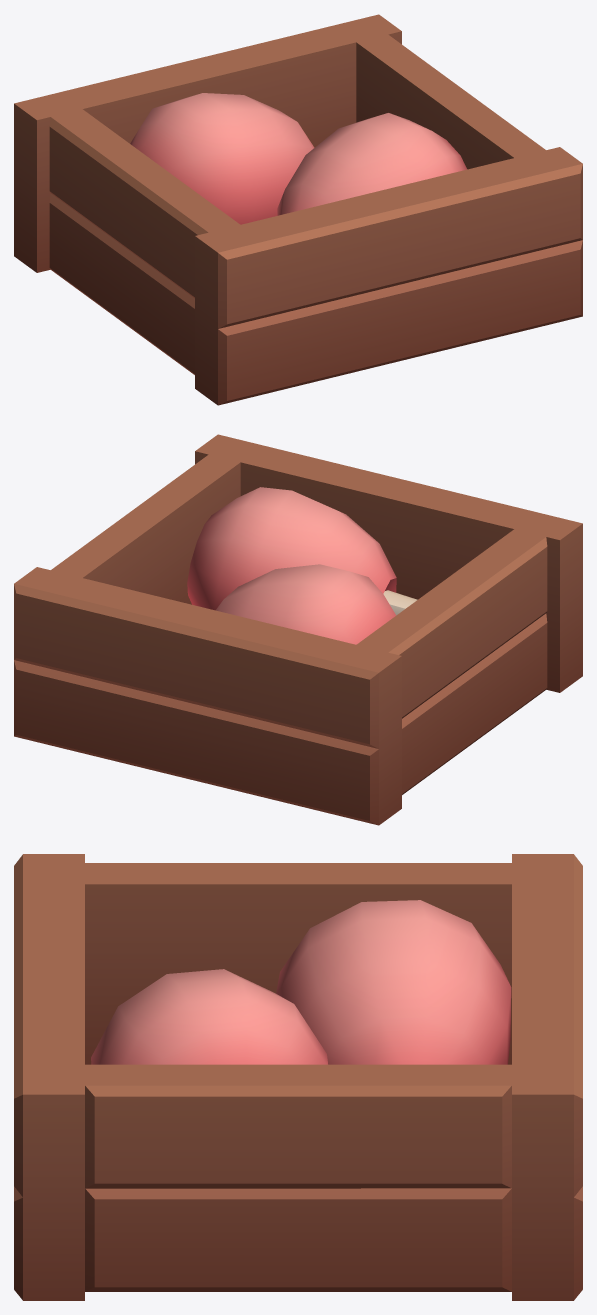
File: Crate of Ham.glb
3 renders of one model, top to bottom at view 1: azimuth 30°, elevation 25°; view 2: azimuth 150°, elevation 25°; view 3: azimuth 270°, elevation 25°, orthographic. The views are drawn at different scales.
Visible parts, largest first — view 1: crate_ham; view 2: crate_ham; view 3: crate_ham.
Boxes of the visible parts, x1,y1,x2,y2 form: crate_ham: (14, 14, 582, 405); crate_ham: (14, 434, 582, 825); crate_ham: (14, 854, 582, 1300).
Bounding box in the file's own units: 2 × 0.8937 × 2.
1 material, 1 textured.
